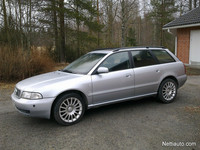car: (11, 45, 189, 124)
